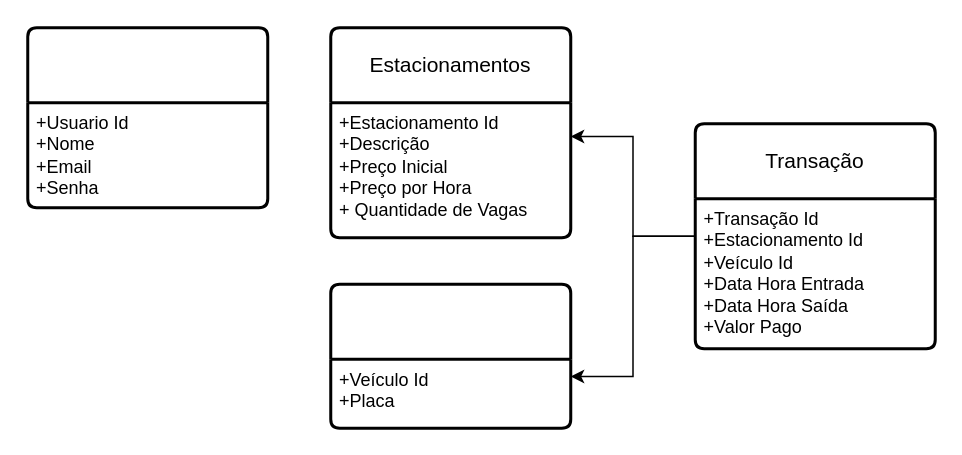
The diagram is 962 pixels wide and 455 high, and some of its shapes have lost their labels. Each missing label, with the box of its shape:
Usuários: (26, 26, 268, 208)
Veículos: (328, 282, 572, 429)
